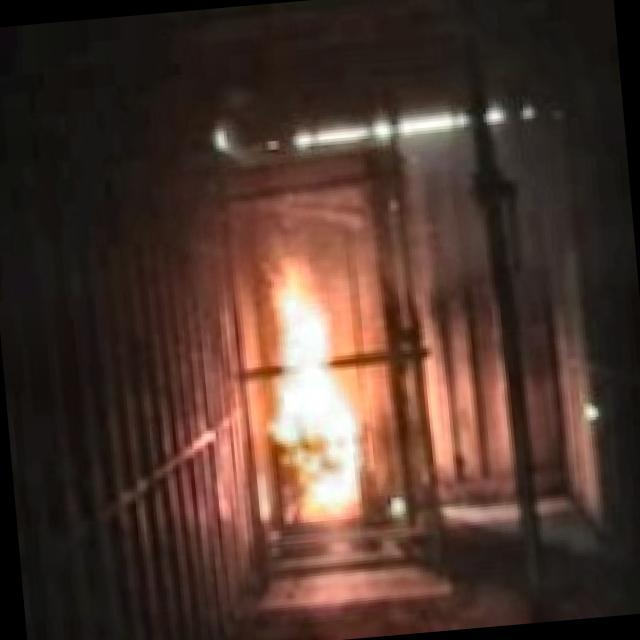fire: (230, 256, 376, 538)
